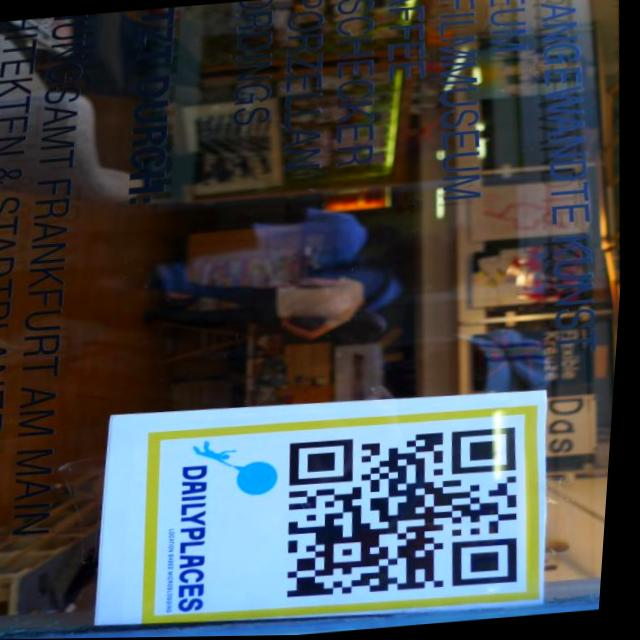qrcode: (284, 426, 532, 603)
